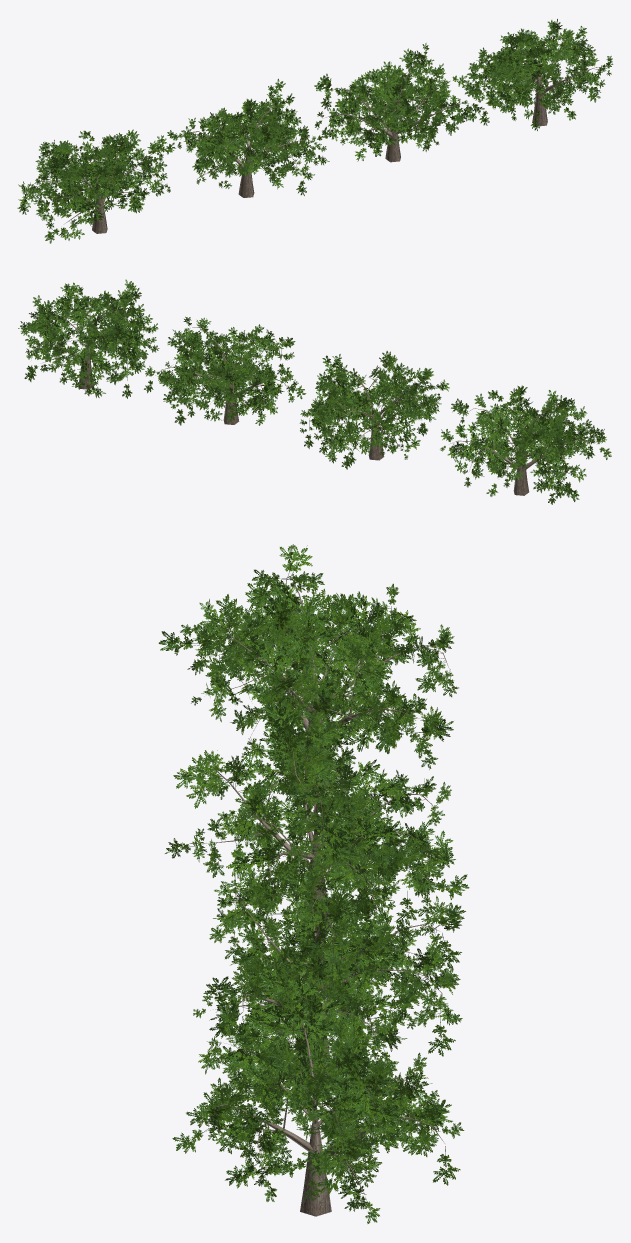
The model's file is trees_real.glb.
3 views of the same model, one above another, from view 1: azimuth 30°, elevation 25°; view 2: azimuth 150°, elevation 25°; view 3: azimuth 270°, elevation 25° (orthographic). The views are drawn at different scales.
Parts seen in each view (by area): view 1: sauce_c, sauce_a, sauce_d, sauce_b; view 2: sauce_a, sauce_d, sauce_b, sauce_c; view 3: sauce_d, sauce_a, sauce_b, sauce_c.
Part boxes in pixels (x1,y1,x2,y2): sauce_c: [314, 43, 484, 162]; sauce_a: [17, 129, 175, 243]; sauce_d: [462, 19, 613, 130]; sauce_b: [167, 78, 330, 197]; sauce_a: [440, 385, 611, 504]; sauce_d: [18, 279, 159, 398]; sauce_b: [299, 351, 449, 469]; sauce_c: [144, 316, 306, 425]; sauce_d: [172, 962, 464, 1223]; sauce_a: [158, 544, 458, 790]; sauce_b: [165, 700, 469, 962]; sauce_c: [193, 868, 465, 1099].
Size of the model in its own units: 120 by 21.96 by 28.73.
Materials: 2 (2 with a texture image).
